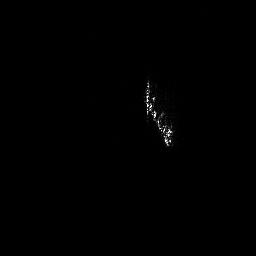ship: (144, 77, 175, 148)
